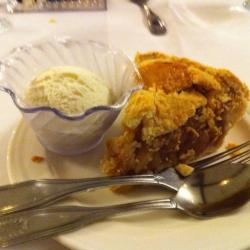apple_pie: (101, 48, 245, 198)
icecream: (16, 60, 118, 151)
